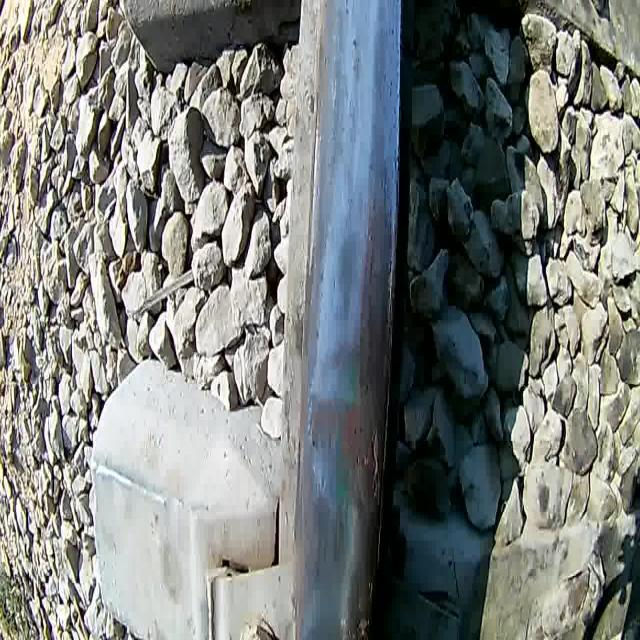Cracks: (369, 420, 381, 497)
Spallings: (341, 599, 375, 640)
Squats: (307, 483, 349, 593), (329, 221, 361, 330), (302, 384, 345, 458)
